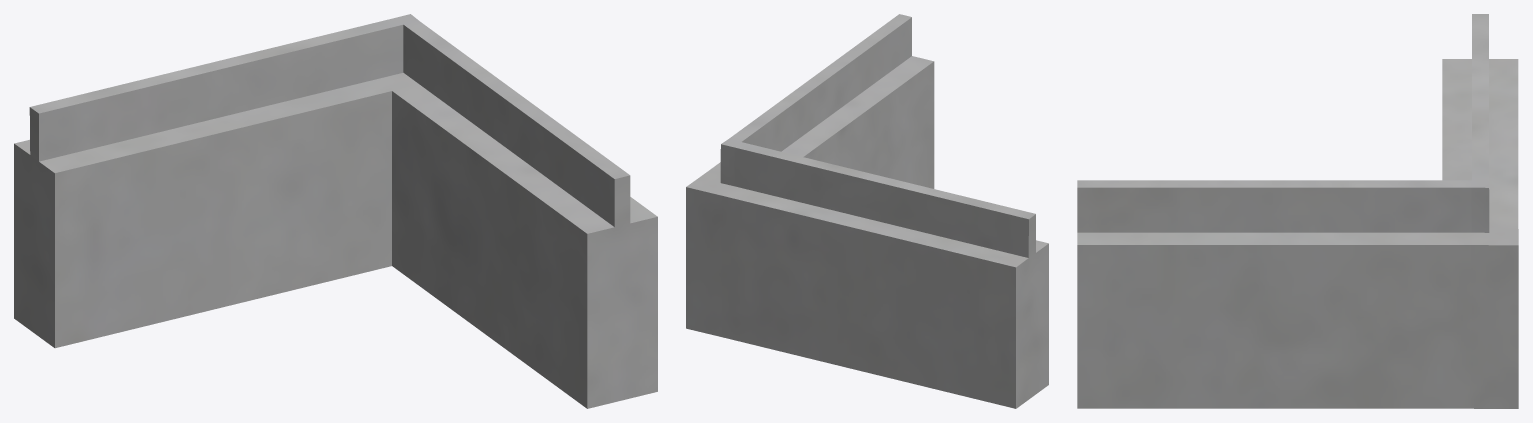
The picture shows the model from 3 angles, left to right: view 1: azimuth 30°, elevation 25°; view 2: azimuth 150°, elevation 25°; view 3: azimuth 270°, elevation 25°; orthographic projection. The views are drawn at different scales.
Visible parts, largest first — view 1: StairConcreteL; view 2: StairConcreteL; view 3: StairConcreteL.
Boxes of the visible parts, x1,y1,x2,y2 form: StairConcreteL: (14,14,657,408); StairConcreteL: (686,14,1048,408); StairConcreteL: (1077,14,1518,408).
Size of what is drawn, in the model's own units: 218 by 114 by 219.
